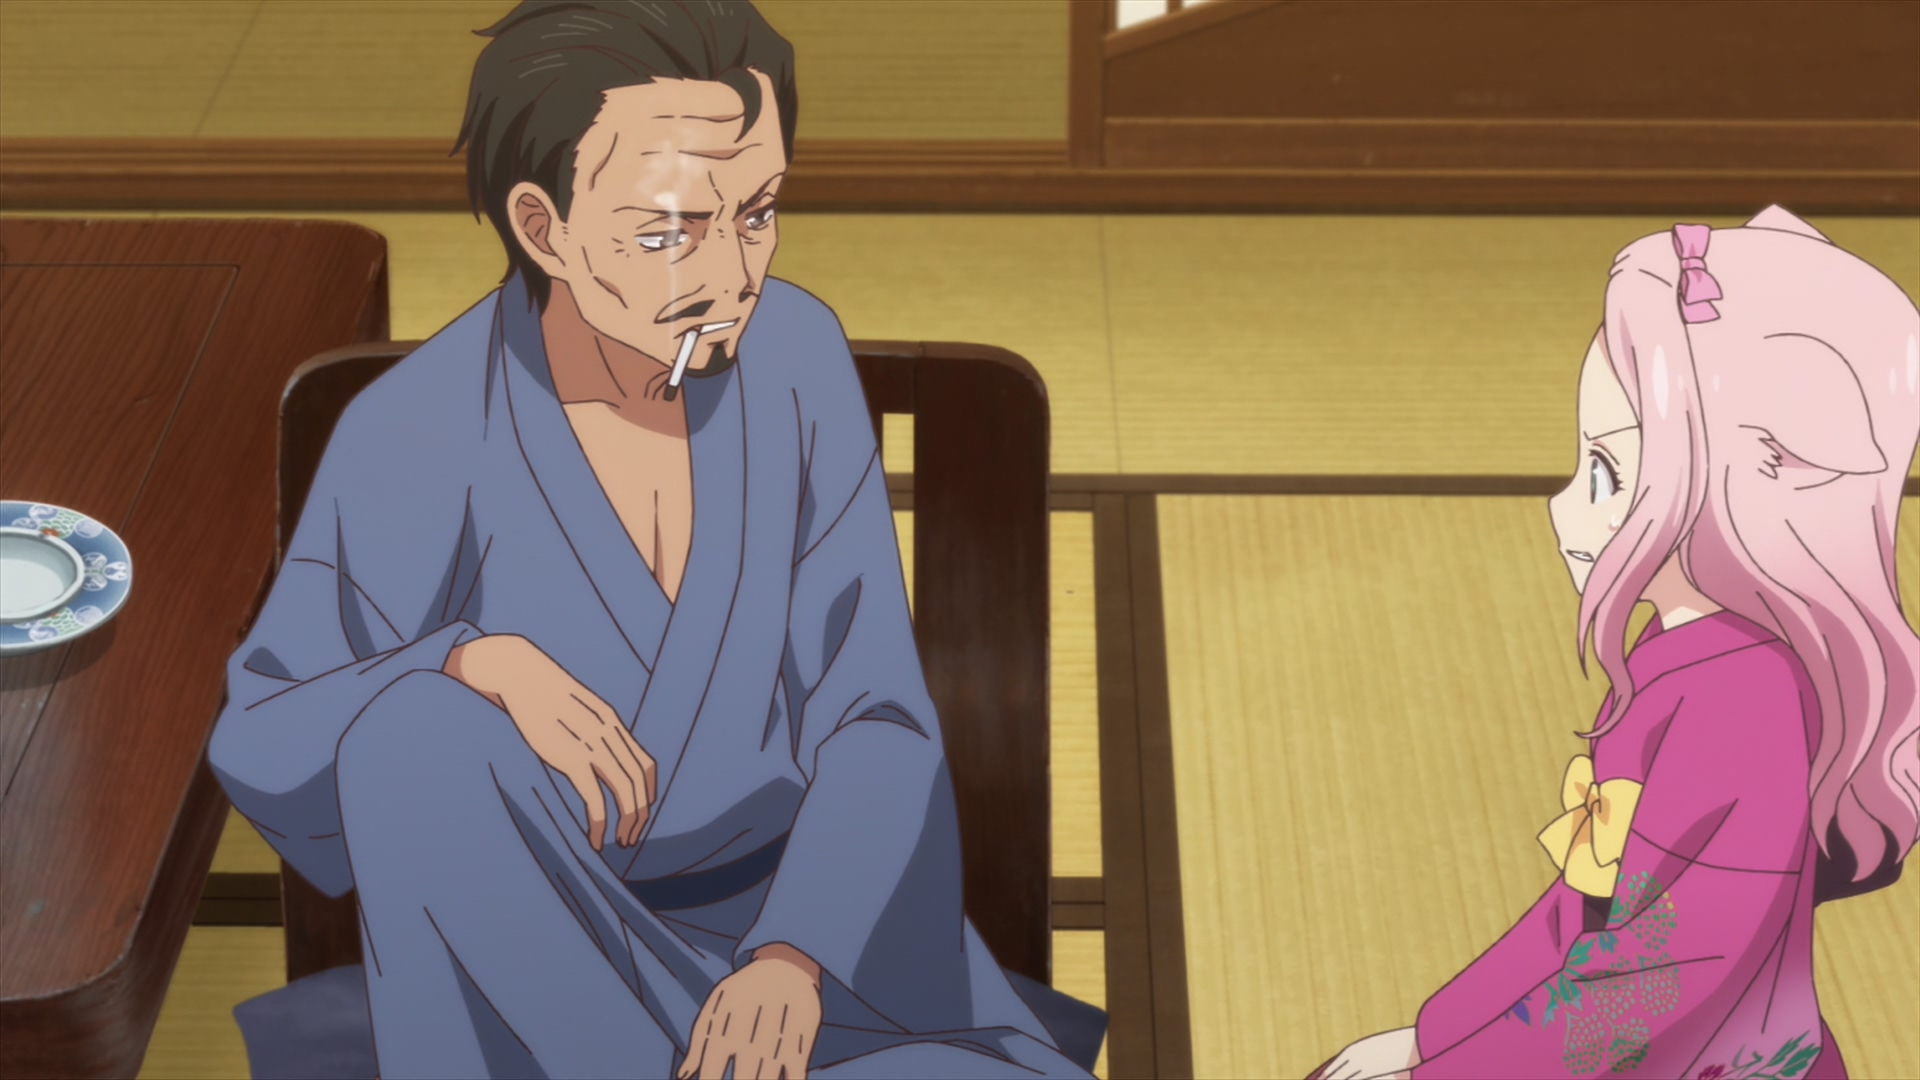其他: (208, 1, 1095, 1080)
莲: (1309, 202, 1920, 1080)
